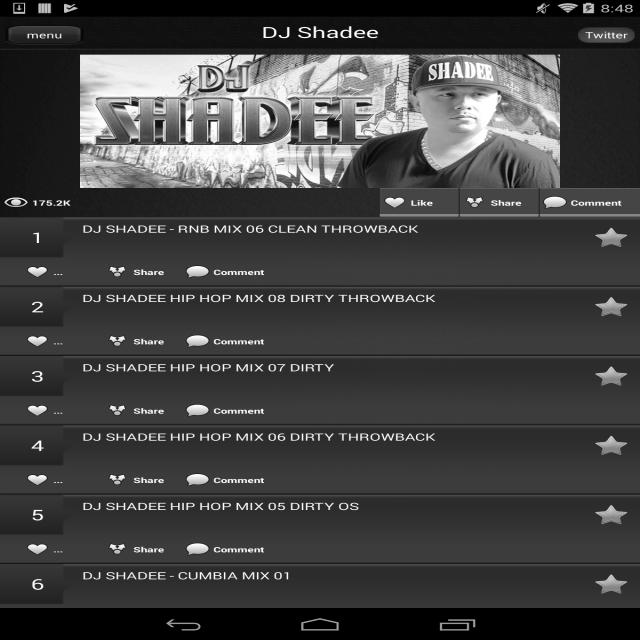Button: (5, 25, 84, 45), (578, 27, 635, 43)
ImageView: (0, 55, 640, 188), (3, 194, 29, 210), (382, 194, 407, 210), (462, 194, 487, 210), (542, 194, 567, 210), (25, 264, 50, 280), (105, 264, 130, 280), (185, 264, 210, 280), (25, 402, 50, 418), (105, 402, 130, 418), (185, 402, 210, 418), (25, 472, 50, 488), (105, 472, 130, 488), (185, 472, 210, 488), (25, 542, 50, 558), (105, 542, 130, 558), (185, 542, 210, 558), (25, 334, 50, 349), (105, 334, 130, 349), (185, 334, 210, 349)
TextView: (0, 18, 640, 46), (82, 222, 583, 236), (82, 291, 583, 305), (82, 430, 583, 444), (82, 499, 583, 513), (82, 361, 583, 374), (82, 569, 583, 582), (0, 218, 75, 258), (0, 286, 75, 326), (0, 356, 75, 396), (0, 426, 75, 466), (0, 494, 75, 534), (0, 564, 75, 604), (213, 267, 264, 277), (213, 336, 264, 346), (213, 406, 264, 416), (213, 475, 264, 485), (213, 544, 264, 554), (571, 198, 621, 208), (491, 198, 522, 208), (134, 267, 164, 277), (134, 336, 164, 346), (134, 406, 164, 416), (134, 475, 164, 485), (134, 544, 164, 554), (53, 267, 76, 277), (411, 198, 433, 208), (53, 336, 63, 346), (53, 406, 63, 416), (53, 475, 63, 485), (53, 544, 63, 554), (32, 198, 39, 208)
